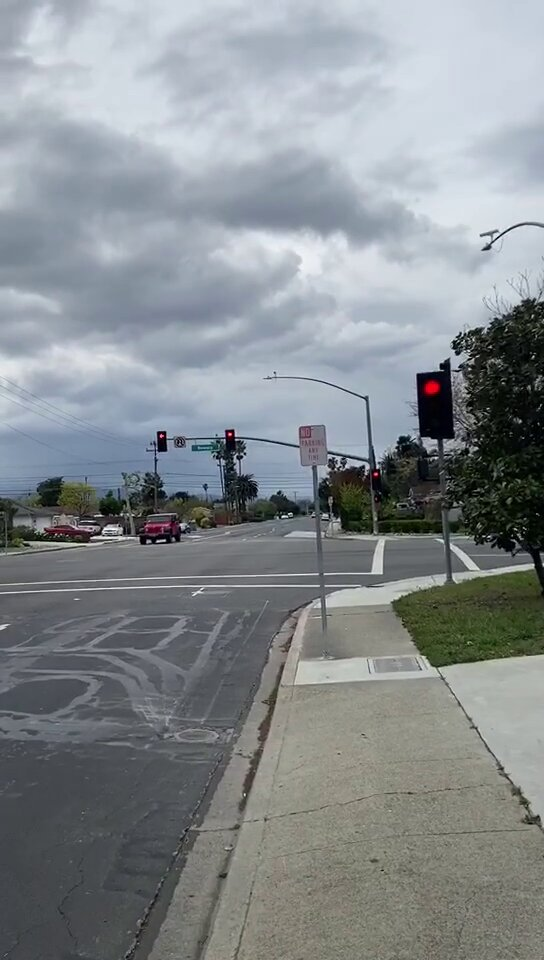red_light: (419, 370, 453, 437), (155, 429, 167, 452), (225, 428, 238, 449), (370, 467, 381, 487)
